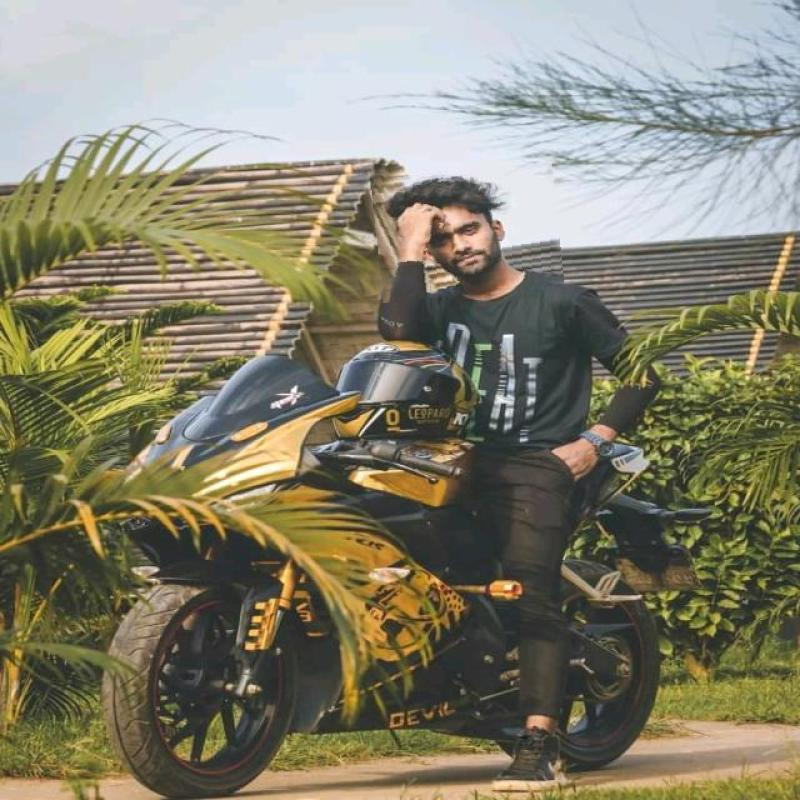nohelmet: (374, 166, 562, 299)
